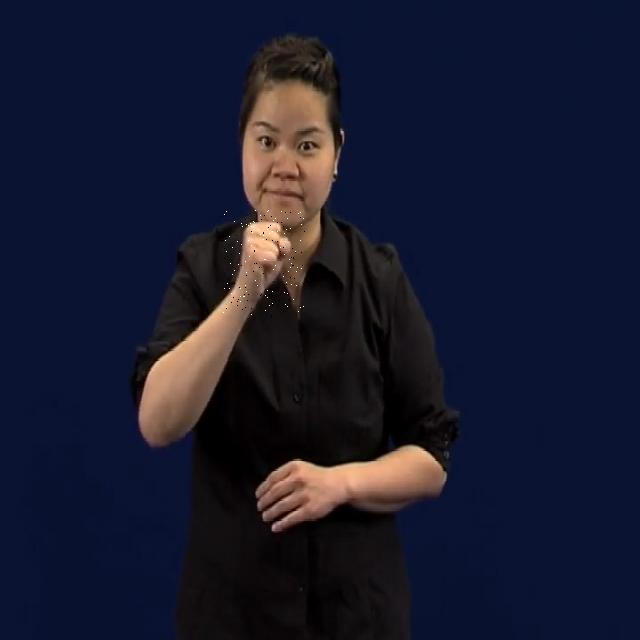icecream: (222, 210, 305, 318)
